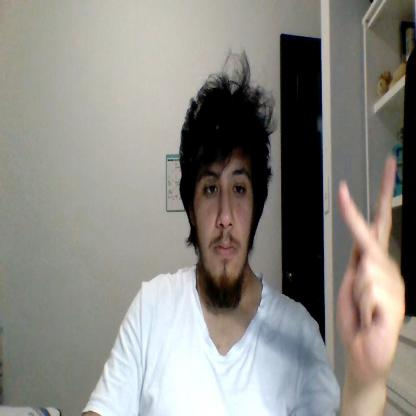P: (337, 152, 405, 376)
